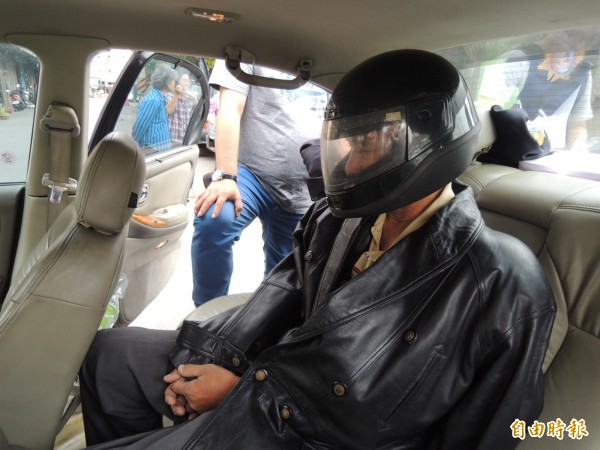helmet: (313, 70, 481, 191)
